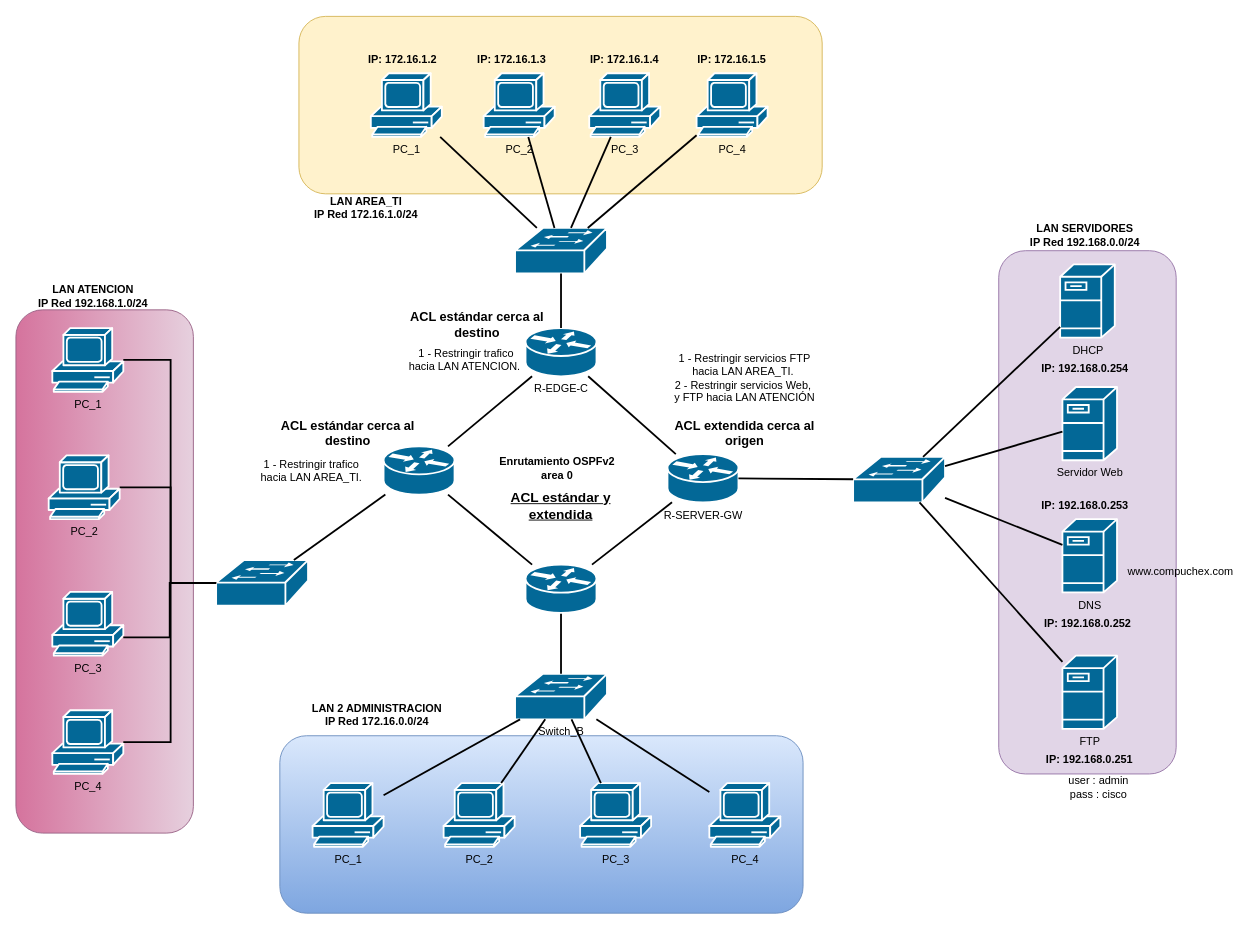
The diagram is 1249 pixels wide and 929 high, and some of its shapes have lost their labels. Here are the shapes that lost their labels. From the top down, the centre of each, then its label:
At [560,250]: "Switch_C".
At [418,470]: "R-EDGE-A".
At [898,479]: "Switch_D".
At [261,582]: "Switch_A".
At [560,588]: "R-EDGE-B".
